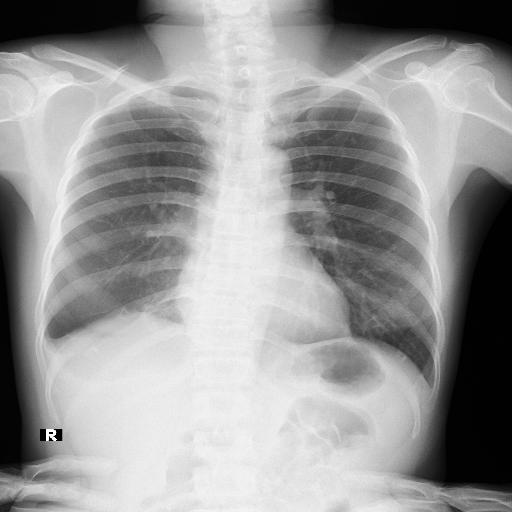Pleural effusion: (11, 292, 50, 340)
Pleural thickening: (16, 297, 50, 341), (87, 279, 131, 311)
